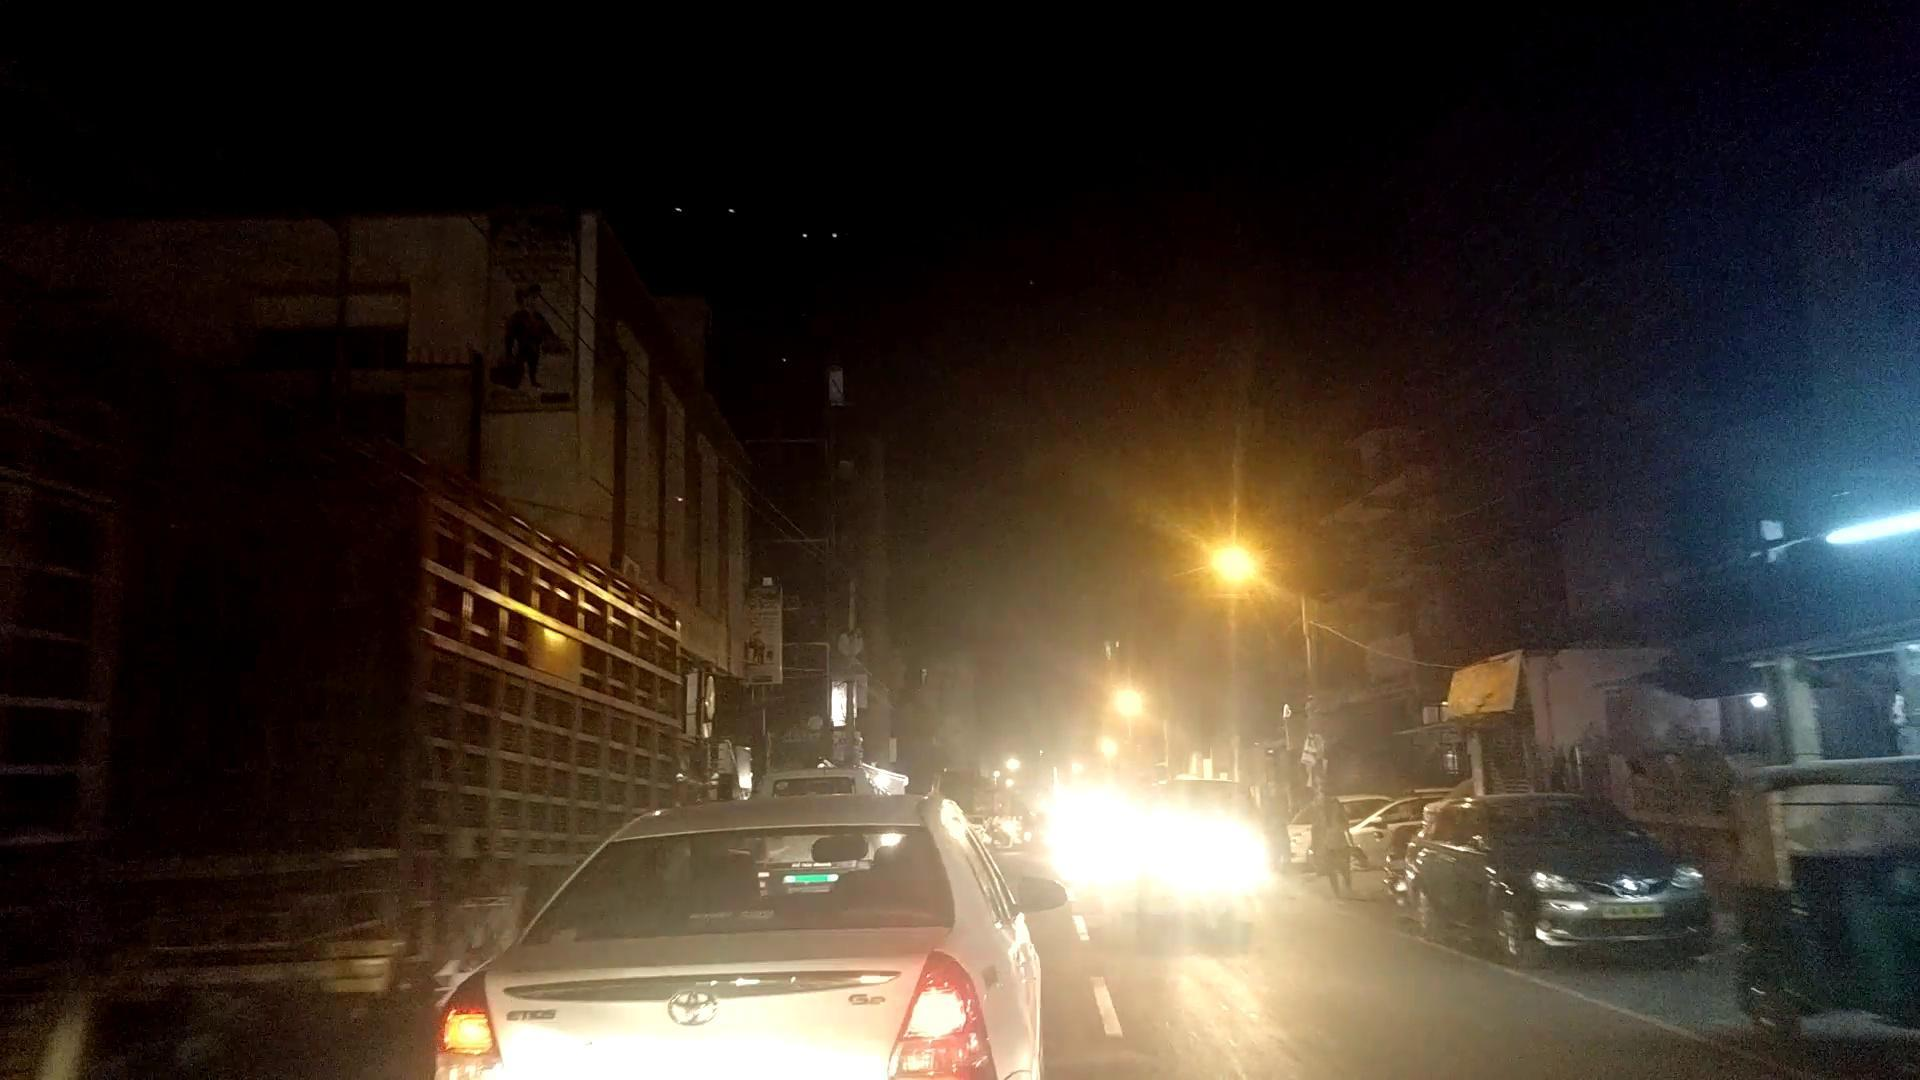on: (1050, 322, 1358, 683)
